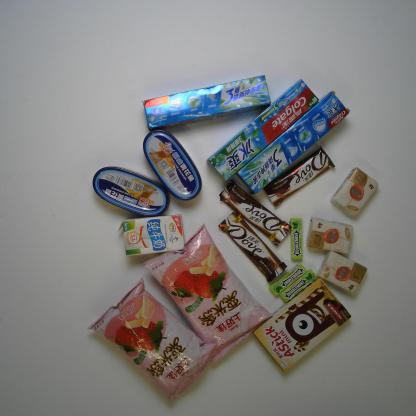Canned Food: (142, 128, 202, 202), (93, 165, 171, 216)
Chocolate: (218, 177, 292, 247), (218, 209, 288, 283), (262, 145, 336, 208)
Dessert: (252, 277, 352, 373)
Gum: (278, 268, 318, 304), (269, 262, 307, 297), (289, 217, 304, 262)
Milk: (118, 213, 186, 257)
Personal Hygiene: (235, 90, 350, 195), (206, 78, 320, 182), (141, 74, 272, 131)
Puffed Food: (142, 222, 274, 364), (87, 279, 218, 404)
Tissue: (328, 168, 380, 220), (316, 250, 368, 295), (306, 217, 354, 254)
